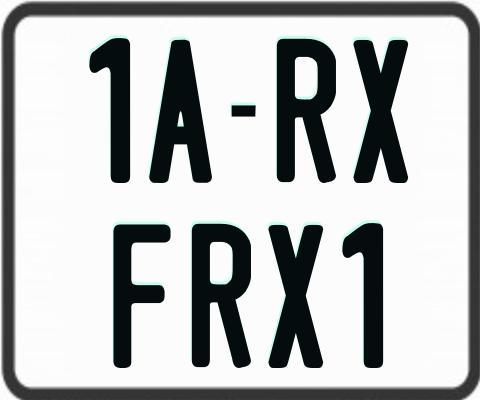1: (341, 221, 388, 369), (86, 35, 130, 183)
A: (146, 38, 214, 183)
F: (112, 224, 176, 369)
R: (274, 39, 339, 186), (191, 224, 253, 374)
X: (268, 224, 328, 371), (352, 38, 407, 187)
